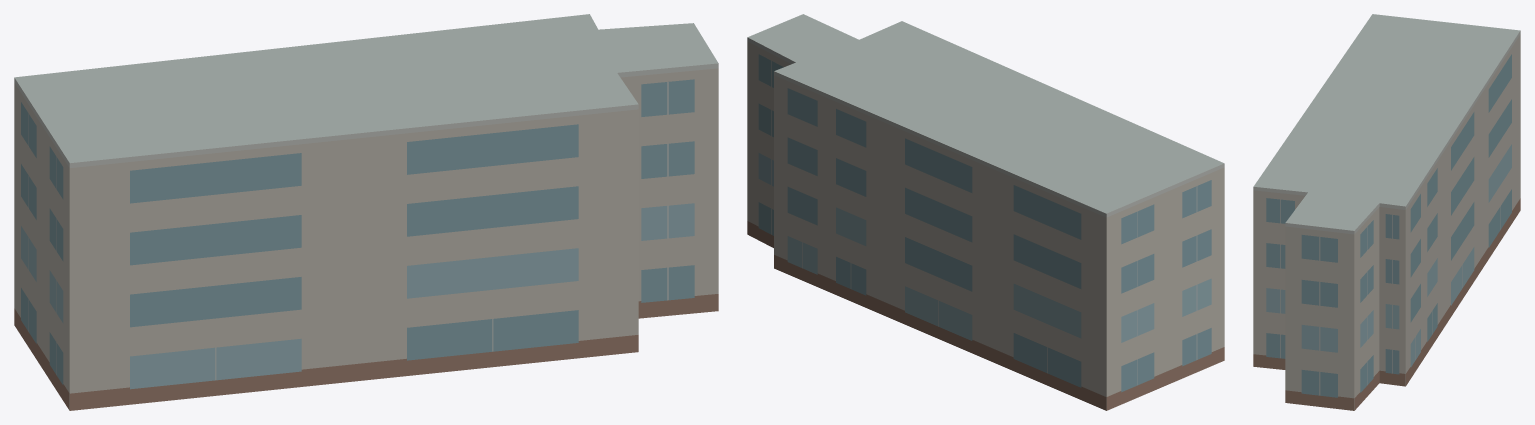
Rendered from survey-upis-32848250.glb.
The picture shows the model from 3 angles, left to right: view 1: azimuth 30°, elevation 25°; view 2: azimuth 150°, elevation 25°; view 3: azimuth 270°, elevation 25°; orthographic projection. The views are drawn at different scales.
Visible parts, largest first — view 1: survey-upis-32848250.tmp; view 2: survey-upis-32848250.tmp; view 3: survey-upis-32848250.tmp.
Boxes of the visible parts, bbox=[...] form: survey-upis-32848250.tmp: bbox=[14, 14, 718, 410]; survey-upis-32848250.tmp: bbox=[747, 14, 1224, 410]; survey-upis-32848250.tmp: bbox=[1253, 14, 1520, 410].
Bounding box in the file's own units: 31.54 × 12.2 × 16.42.
